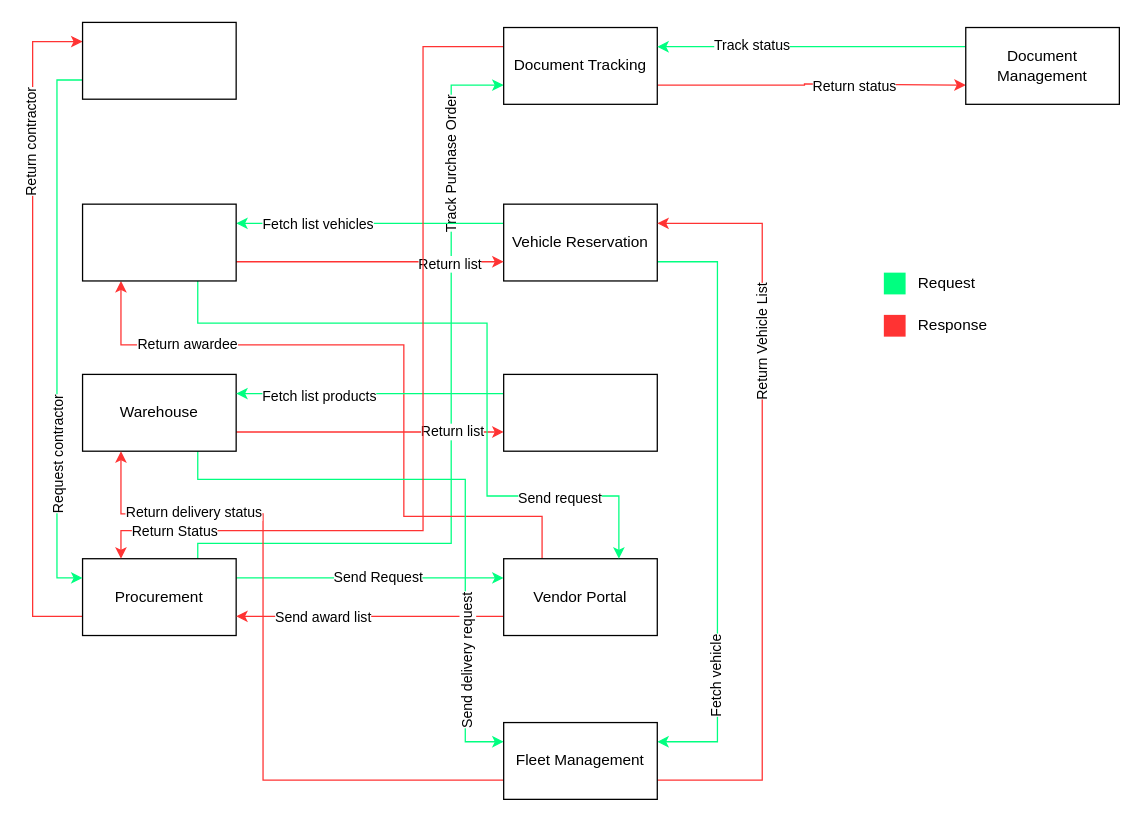
Image size: 1142x822. Some labels were removed from this diagram. Each missing label, with the centre of its shape:
Asset Management: (x=158, y=242)
Audit Management: (x=579, y=412)
Project Management: (x=158, y=60)
